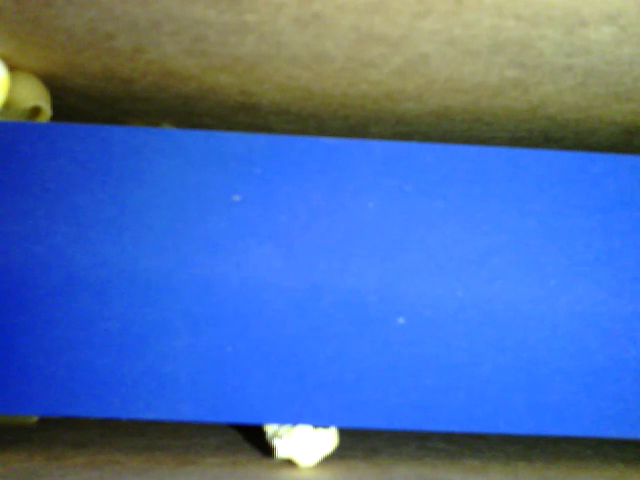shell: (2, 69, 59, 122)
